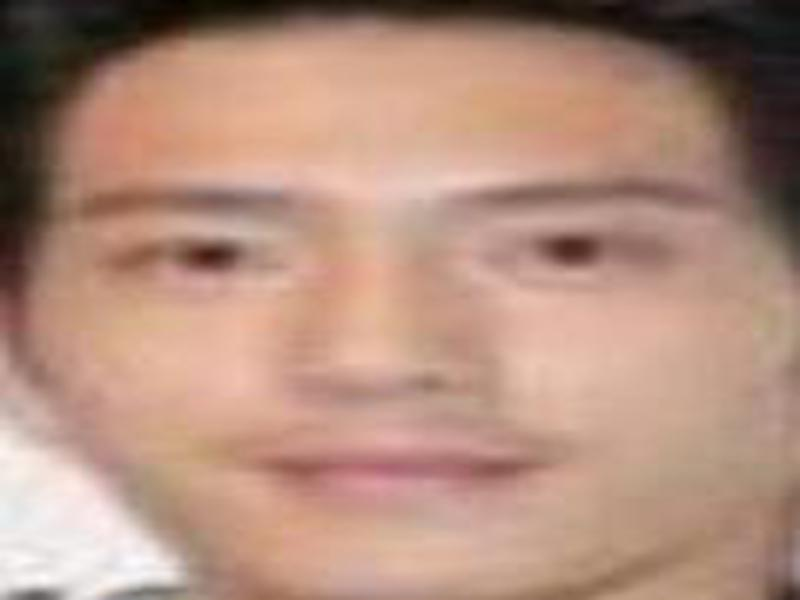without_mask: (33, 84, 797, 587)
